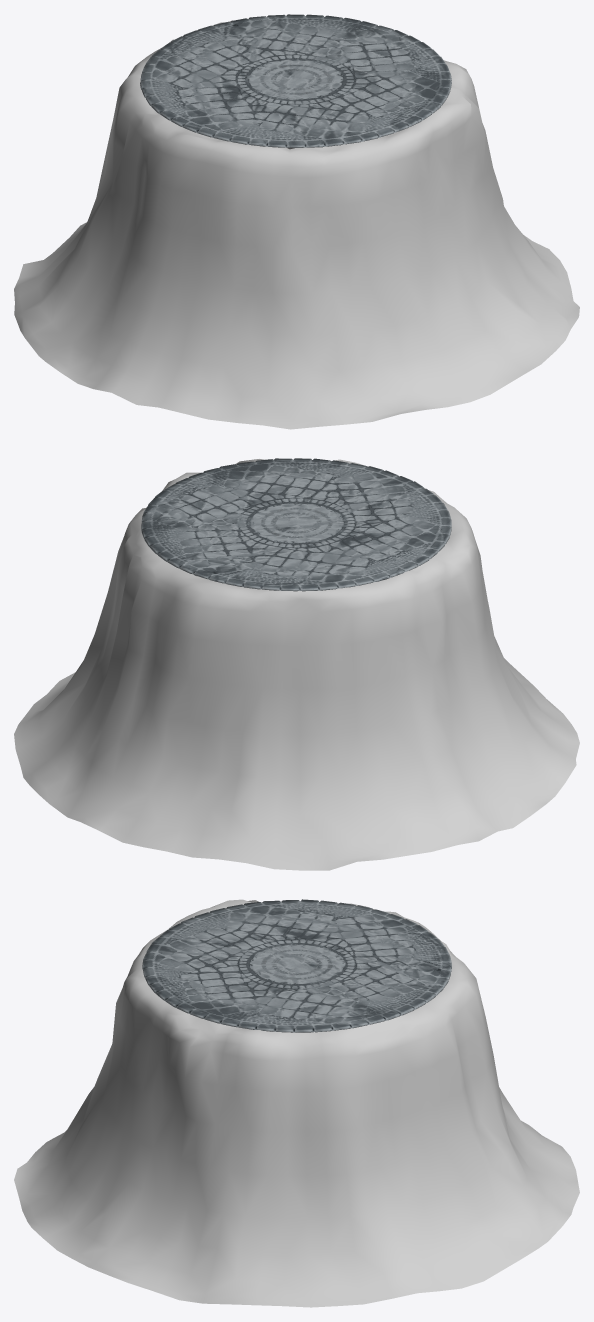
File: Scenario.fbx
3 renders of one model, top to bottom at view 1: azimuth 30°, elevation 25°; view 2: azimuth 150°, elevation 25°; view 3: azimuth 270°, elevation 25°, orthographic.
Parts seen in each view (by area): view 1: BaseLow, CircleofPowerLow; view 2: BaseLow, CircleofPowerLow; view 3: BaseLow, CircleofPowerLow.
Part boxes in pixels (left/top/right/bottom): BaseLow: left=14, top=20, right=579, bottom=429; CircleofPowerLow: left=140, top=14, right=451, bottom=147; BaseLow: left=14, top=459, right=579, bottom=870; CircleofPowerLow: left=141, top=458, right=451, bottom=591; BaseLow: left=14, top=899, right=579, bottom=1307; CircleofPowerLow: left=142, top=899, right=451, bottom=1032.
Size of what is drawn, in the model's own units: 3295 by 1506 by 3324.
